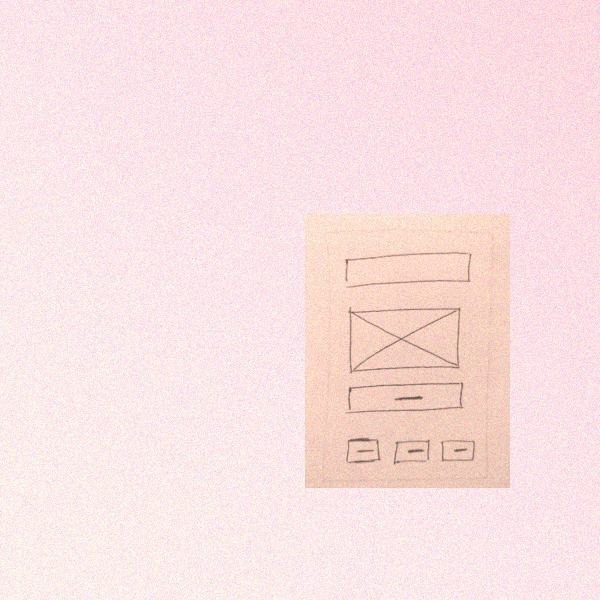button: (342, 380, 468, 415), (389, 438, 433, 468), (342, 435, 384, 466), (439, 436, 480, 466)
image: (343, 304, 472, 377)
text_input: (338, 244, 474, 290)
